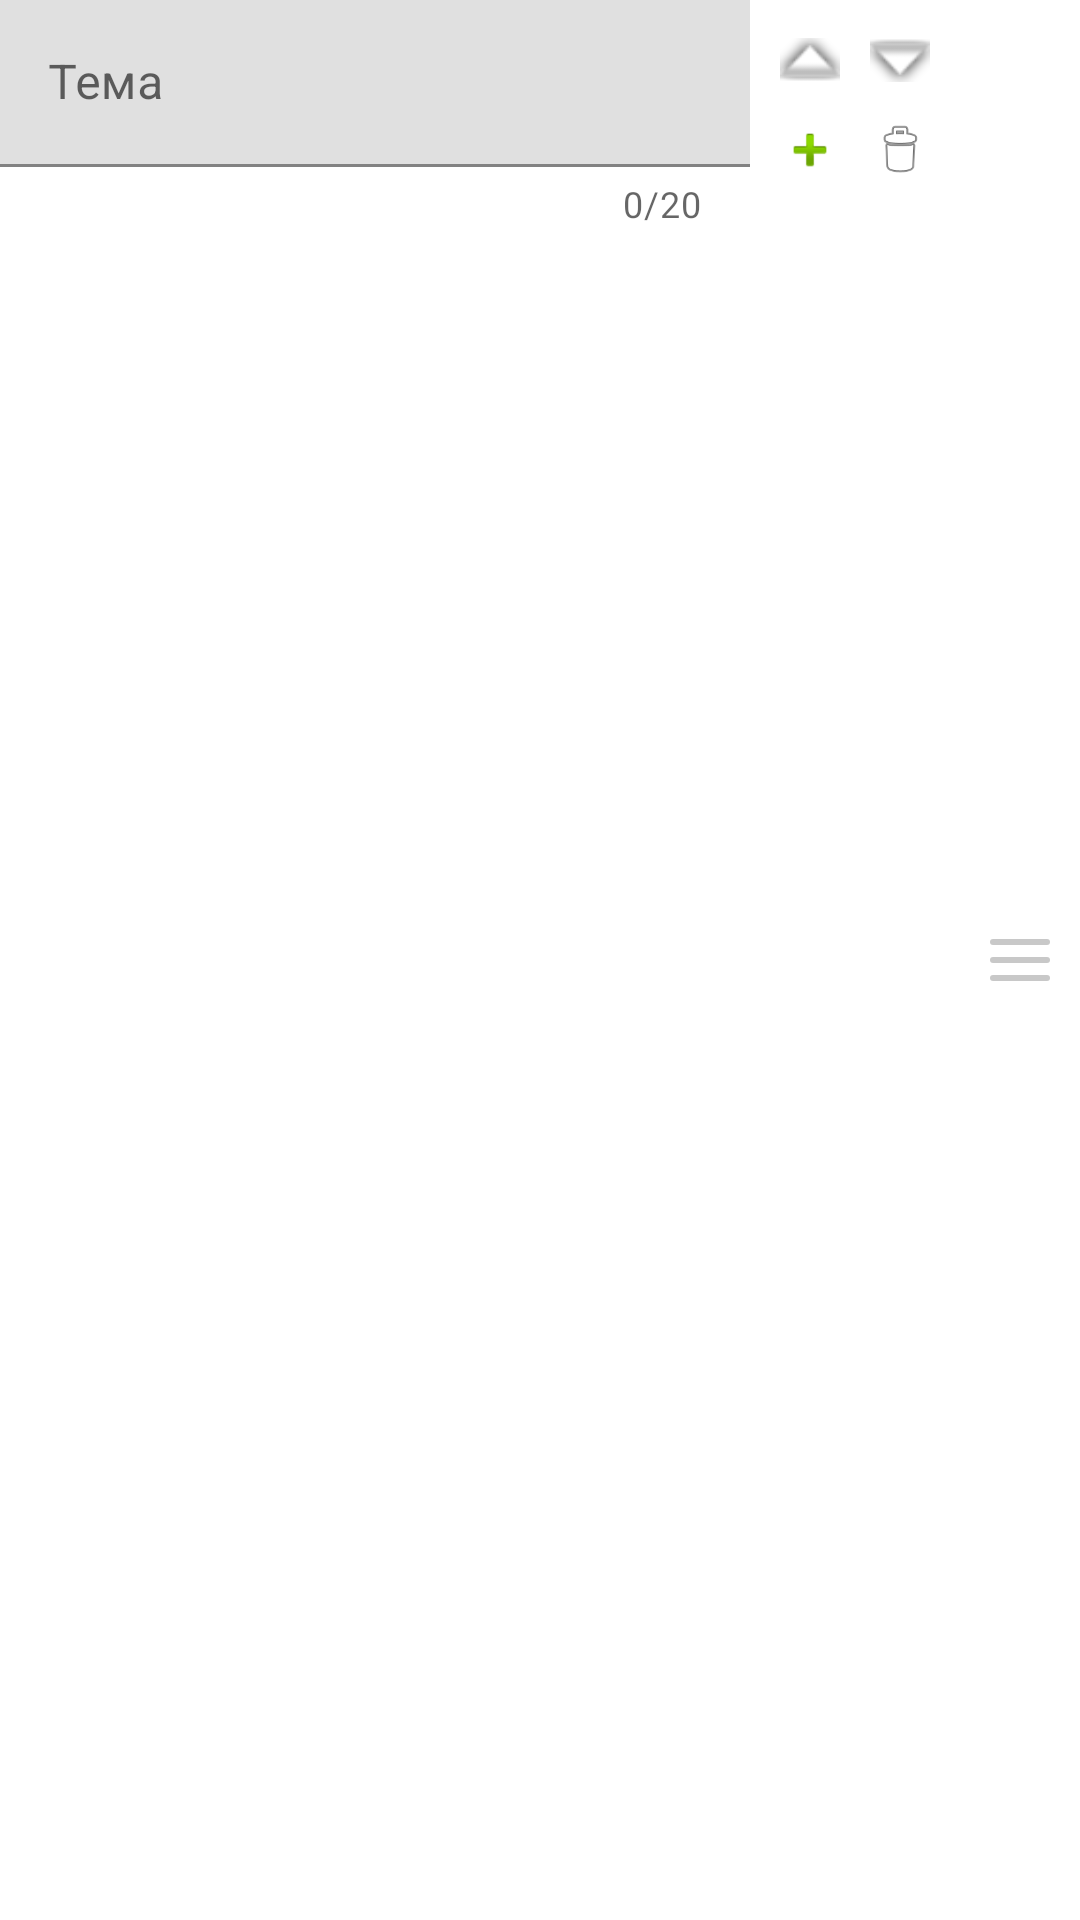

Icon bounding boxes for this 1080w x 1920h phone screenshot, format [x1=x1, y1=y1, x2=x2, y2=y2]:
add: [x1=793, y1=133, x2=827, y2=167]
arrow down float: [x1=870, y1=40, x2=930, y2=81]
arrow up float: [x1=780, y1=39, x2=840, y2=80]
delete: [x1=883, y1=126, x2=917, y2=173]
hamburger menu: [x1=990, y1=939, x2=1050, y2=981]
